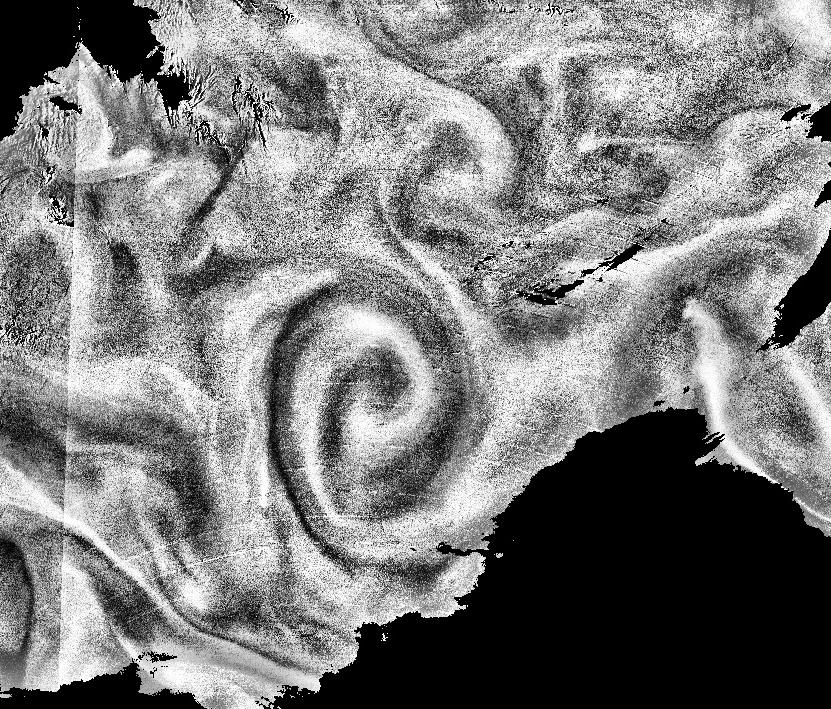AE: (272, 285, 464, 506)
